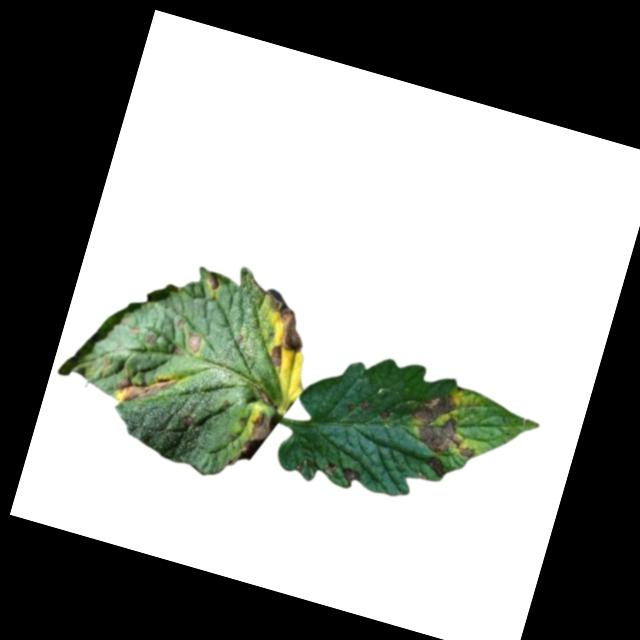Early_blight: (402, 385, 490, 463), (245, 287, 317, 374), (108, 360, 183, 420), (239, 404, 282, 470), (182, 329, 204, 357), (337, 465, 363, 487), (201, 269, 221, 292), (378, 409, 392, 422), (362, 402, 374, 415)
